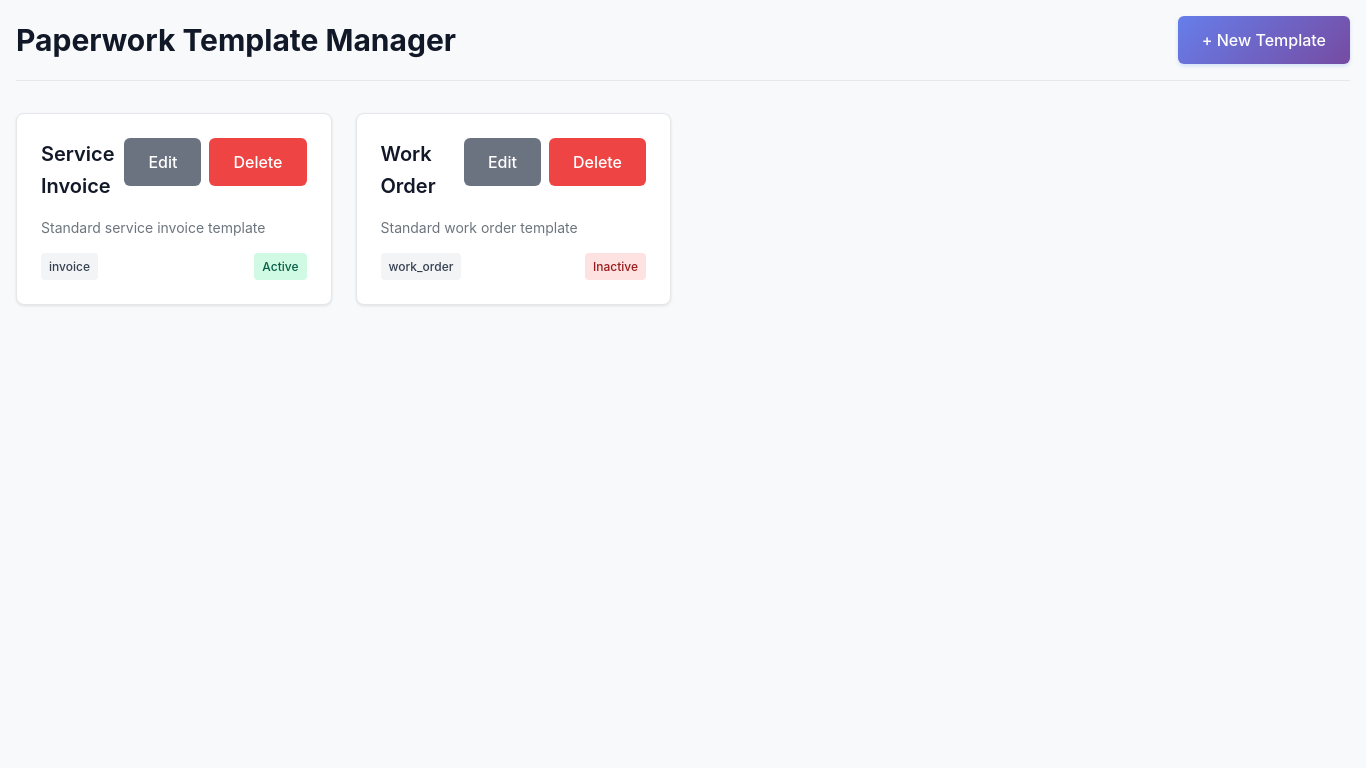
Test: PaperworkTemplateManager Component - REQ-203.5 › Template Editing › cancels editing and returns to template list
The width and height of the screenshot is (1366, 768).
Expected: the heading "Service Invoice" is shown, [41,138,124,202]
Click the 1st button "Edit": (163, 162) [124,138,201,186]
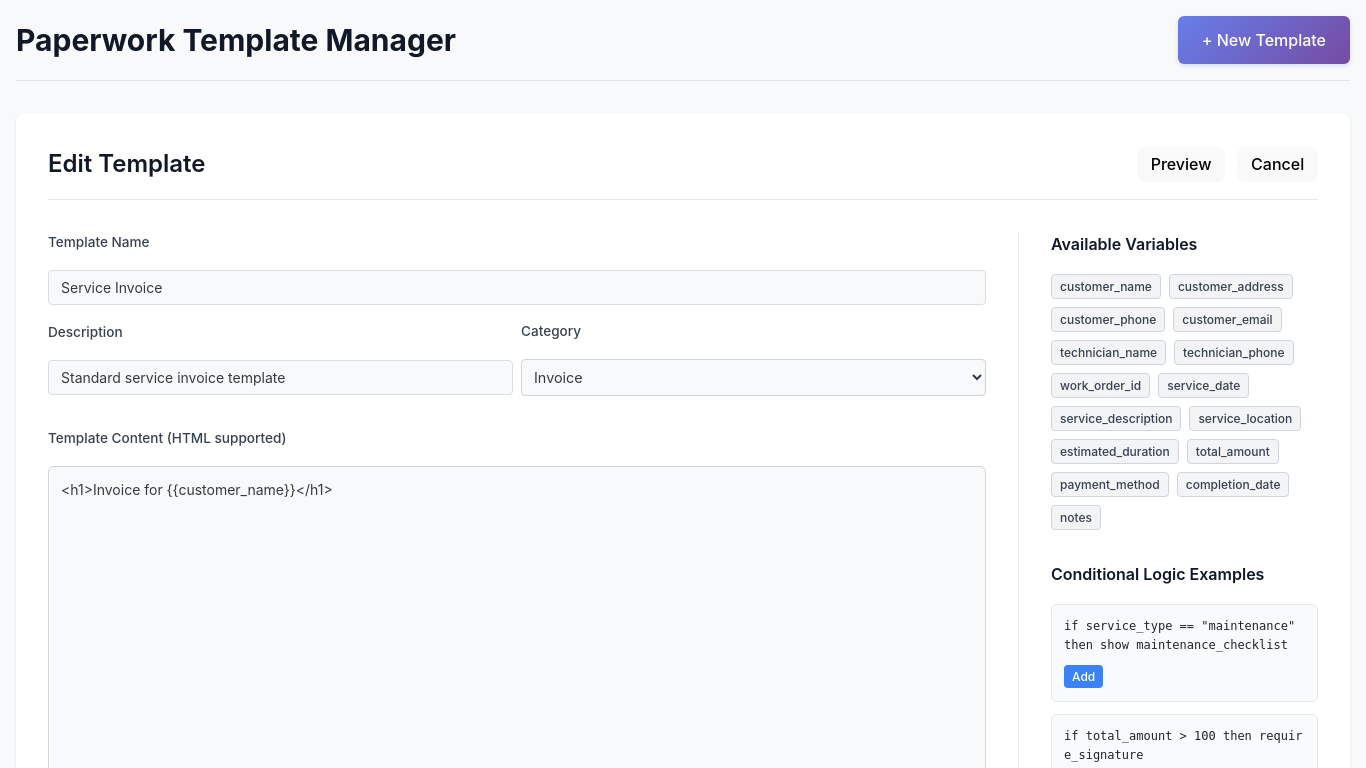
Result: the heading "Edit Template" is shown at [48,145,206,183]
Click the button "Cancel": (1278, 164) [1237,147,1318,182]
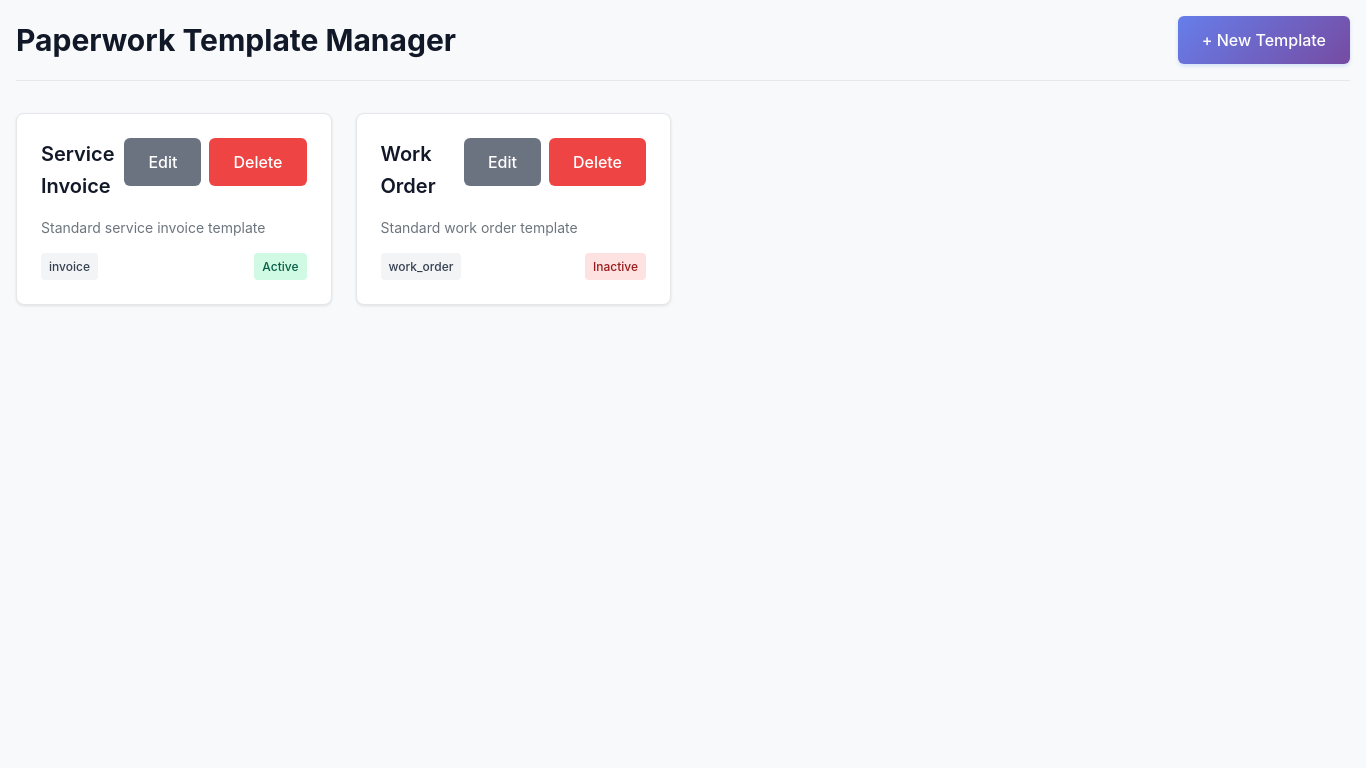
Result: the heading "Service Invoice" is shown at [41,138,124,202]
Result: the heading "Edit Template" is gone
